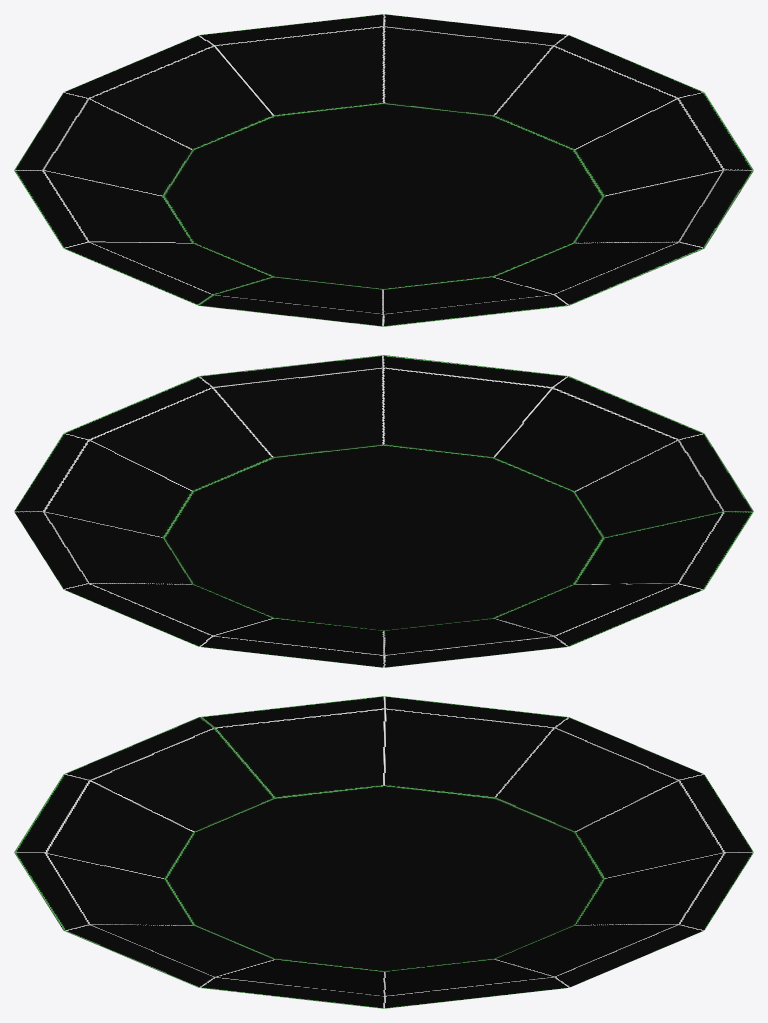
The model's file is plate.FBX.
The picture shows the model from 3 angles, top to bottom: view 1: azimuth 30°, elevation 25°; view 2: azimuth 150°, elevation 25°; view 3: azimuth 270°, elevation 25°; orthographic projection.
Parts seen in each view (by area): view 1: Cylinder001; view 2: Cylinder001; view 3: Cylinder001.
Part boxes in pixels (left/top/right/bottom): Cylinder001: left=14, top=14, right=753, bottom=326; Cylinder001: left=14, top=355, right=753, bottom=667; Cylinder001: left=14, top=696, right=753, bottom=1008.
Size of the model in its own units: 32.01 by 1.52 by 32.01.
